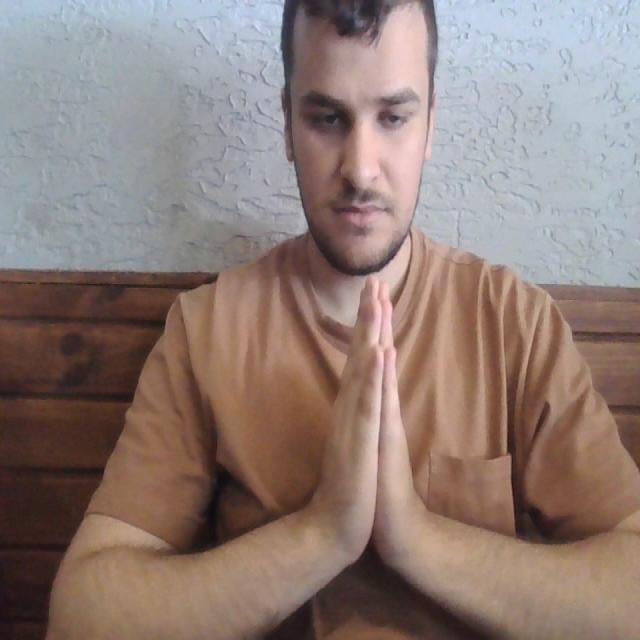Ozur-Dilemek: (312, 268, 432, 602)
